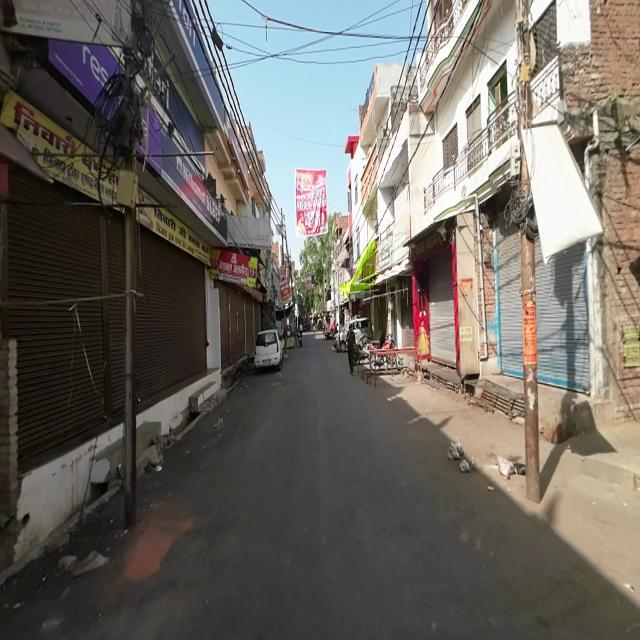Garbage: (446, 438, 472, 473), (496, 452, 526, 481)
